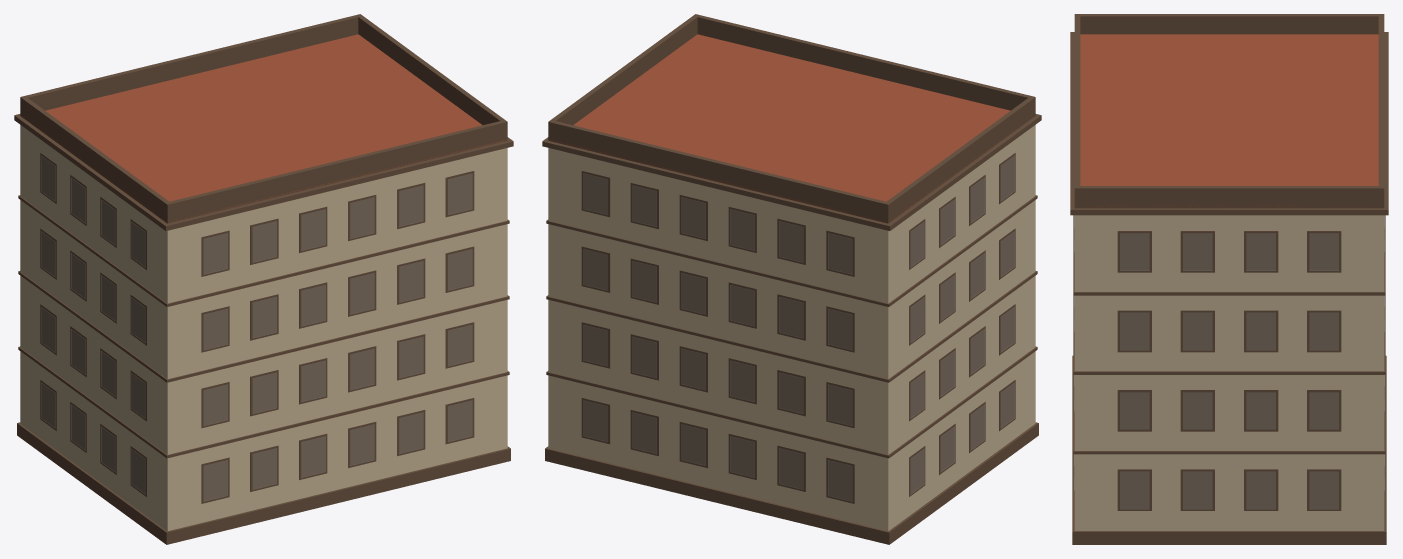
Rendered from block_mid.glb.
3 renders of one model, left to right at view 1: azimuth 30°, elevation 25°; view 2: azimuth 150°, elevation 25°; view 3: azimuth 270°, elevation 25°, orthographic. The views are drawn at different scales.
Parts seen in each view (by area): view 1: SM_ENV_block_mid; view 2: SM_ENV_block_mid; view 3: SM_ENV_block_mid.
Boxes of the visible parts, x1=… form: SM_ENV_block_mid: x1=14, y1=14, x2=513, y2=544; SM_ENV_block_mid: x1=542, y1=14, x2=1041, y2=544; SM_ENV_block_mid: x1=1070, y1=14, x2=1388, y2=544.
Bounding box in the file's own units: 16.36 × 15.22 × 12.36.
